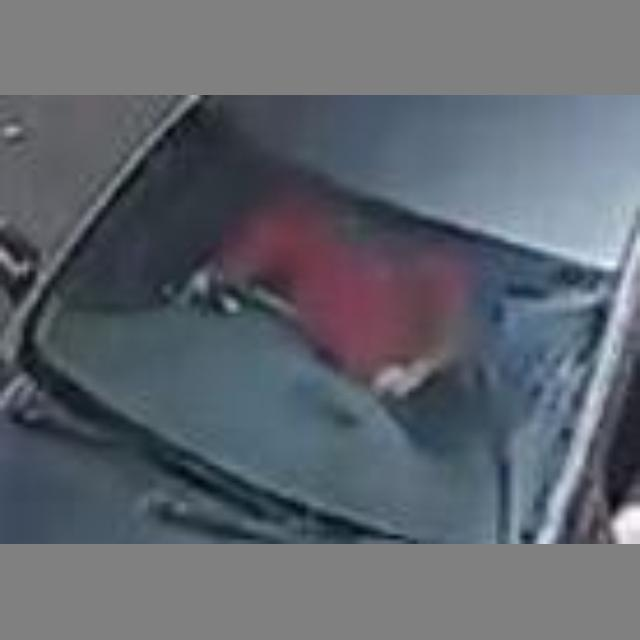tidak-pakai: (232, 192, 464, 410)
